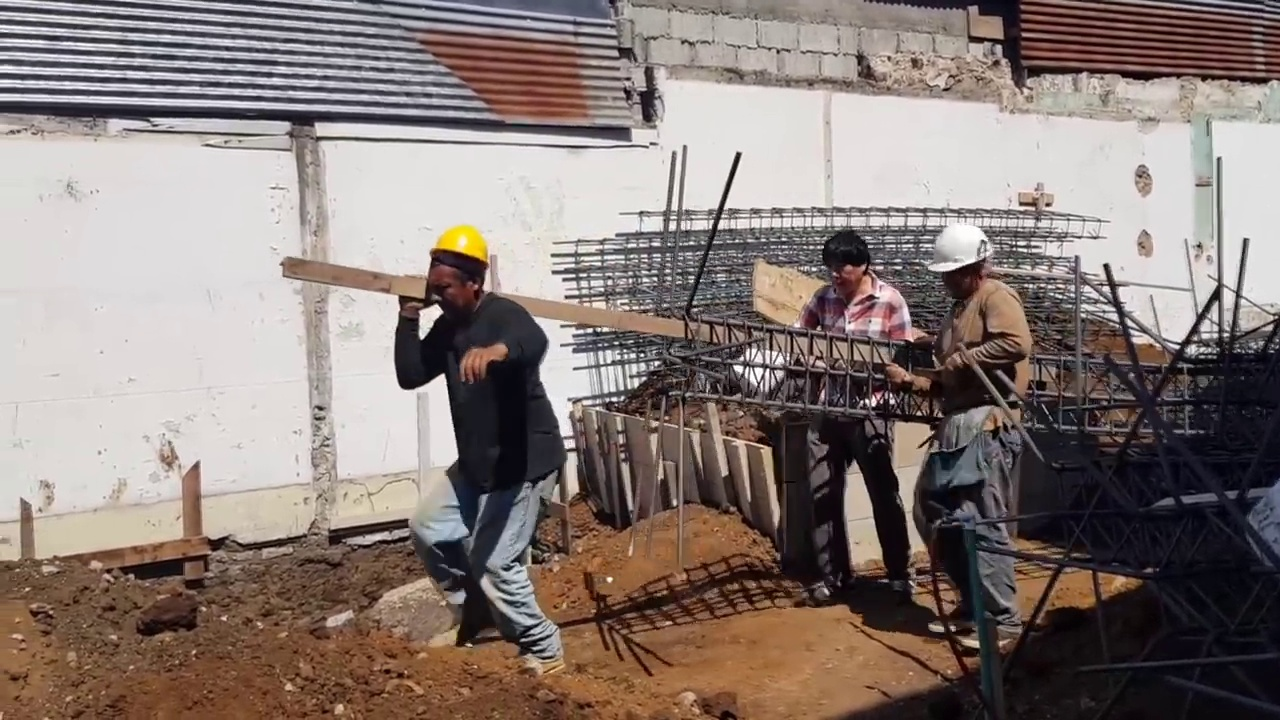helmet: (929, 221, 1001, 274), (421, 222, 494, 269)
helmet-off: (825, 227, 874, 297)
helmet-on: (420, 229, 491, 320), (929, 221, 1002, 303)
person: (389, 201, 566, 670), (911, 216, 1039, 653), (800, 223, 912, 606)
